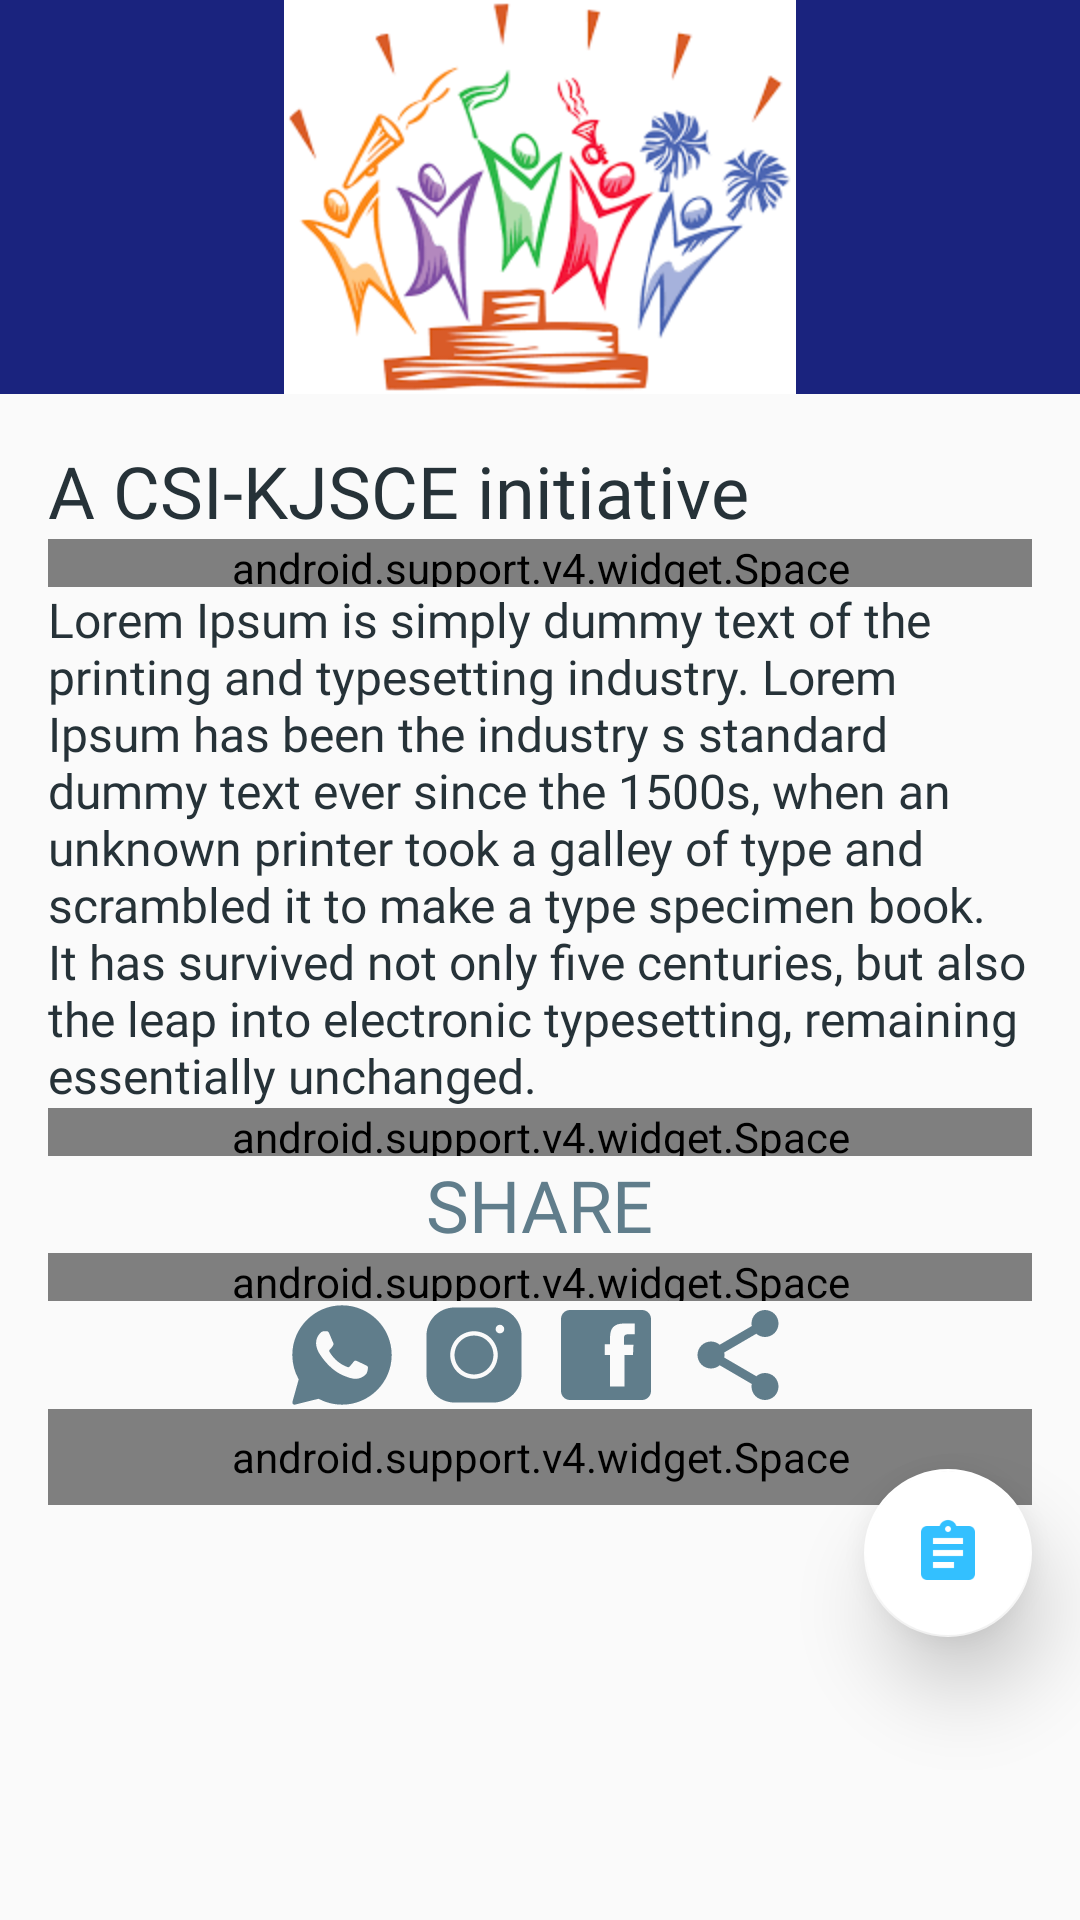

Icon click points for this 1080w x 1920h phone screenshot, format point (x, y):
fab register: point (948, 1553)
